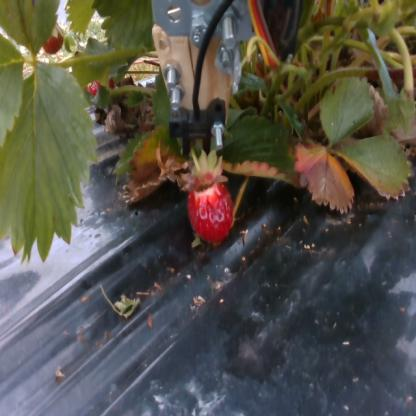ripe: (192, 175, 236, 241), (87, 69, 116, 101), (43, 25, 66, 56)
